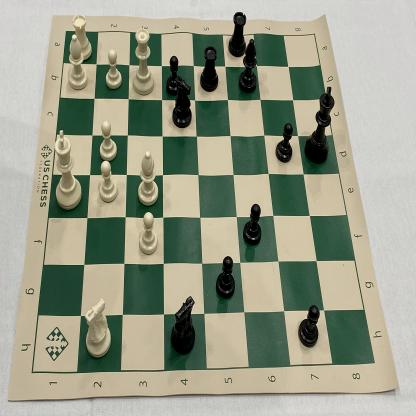black-bishop: (239, 37, 260, 96)
black-king: (303, 82, 338, 170)
black-knight: (167, 292, 199, 359), (170, 74, 196, 132)
black-pawn: (296, 300, 323, 350), (214, 252, 238, 301), (242, 201, 264, 249), (274, 121, 295, 166), (164, 52, 184, 98)
black-rook: (130, 23, 158, 99), (197, 40, 221, 95), (226, 8, 249, 61)
white-bishop: (134, 147, 162, 209), (64, 32, 89, 94)
white-king: (50, 122, 87, 215)
white-pawn: (136, 210, 162, 260), (95, 157, 119, 207), (96, 118, 119, 164), (104, 44, 123, 95)
white-rook: (79, 292, 114, 362), (67, 10, 96, 62), (67, 10, 96, 62)
